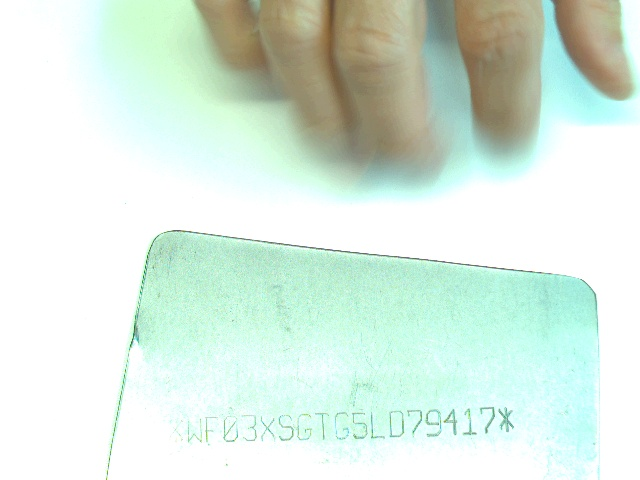0: (221, 415, 239, 443)
1: (461, 406, 479, 436)
3: (239, 412, 258, 442)
4: (443, 408, 460, 439)
5: (350, 411, 369, 440)
7: (406, 407, 424, 438), (479, 405, 497, 436)
9: (425, 408, 444, 437)
d: (388, 409, 406, 438)
f: (204, 416, 218, 445)
g: (332, 411, 350, 441), (296, 411, 313, 442)
l: (370, 410, 387, 441)
s: (277, 414, 295, 441)
t: (313, 411, 331, 440)
w: (185, 417, 205, 446)
x: (258, 414, 277, 441)
